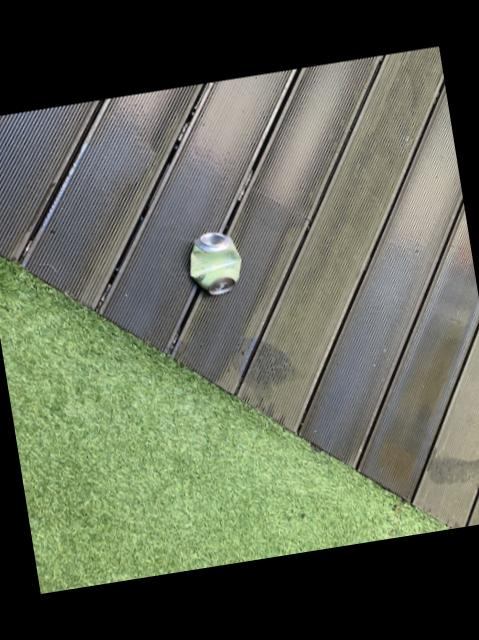metal: (190, 233, 241, 295)
